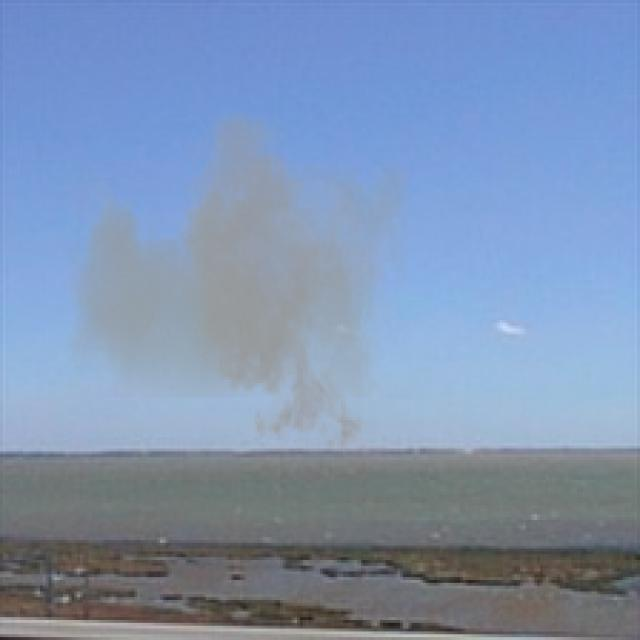smoke: (66, 97, 408, 463)
